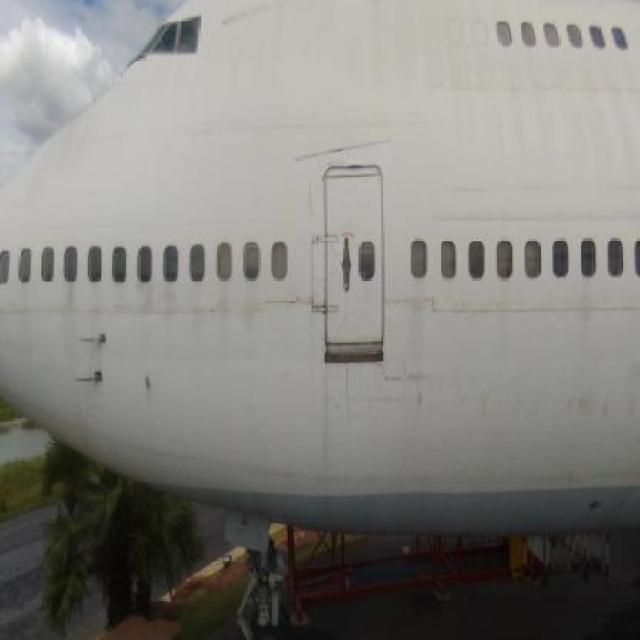Missing-Rivet: (308, 231, 332, 317)
Scartch: (292, 134, 397, 166), (222, 1, 262, 39), (256, 289, 310, 313)
